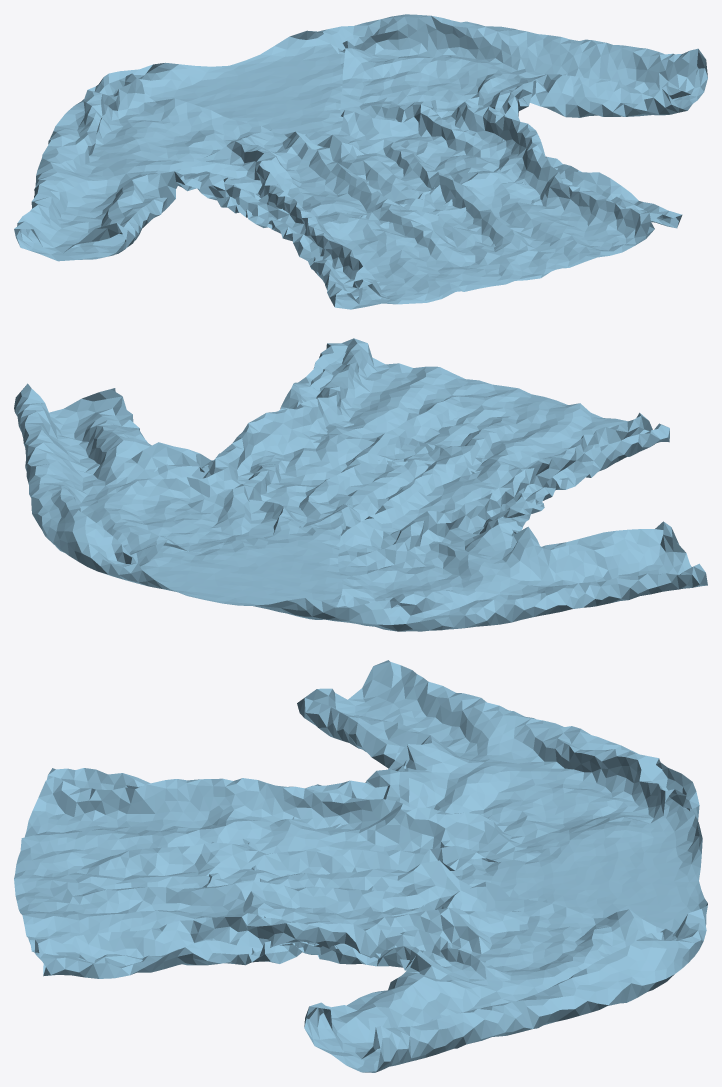
File: frame_00.glb
3 views of the same model, one above another, from view 1: azimuth 30°, elevation 25°; view 2: azimuth 150°, elevation 25°; view 3: azimuth 270°, elevation 25° (orthographic). The views are drawn at different scales.
Visible parts, largest first — view 1: frame_00.obj; view 2: frame_00.obj; view 3: frame_00.obj.
Boxes of the visible parts, x1,y1,x2,y2 form: frame_00.obj: (14, 14, 707, 309); frame_00.obj: (14, 338, 707, 631); frame_00.obj: (14, 660, 707, 1072).
Bounding box in the file's own units: 1.97 × 0.1248 × 1.46.
